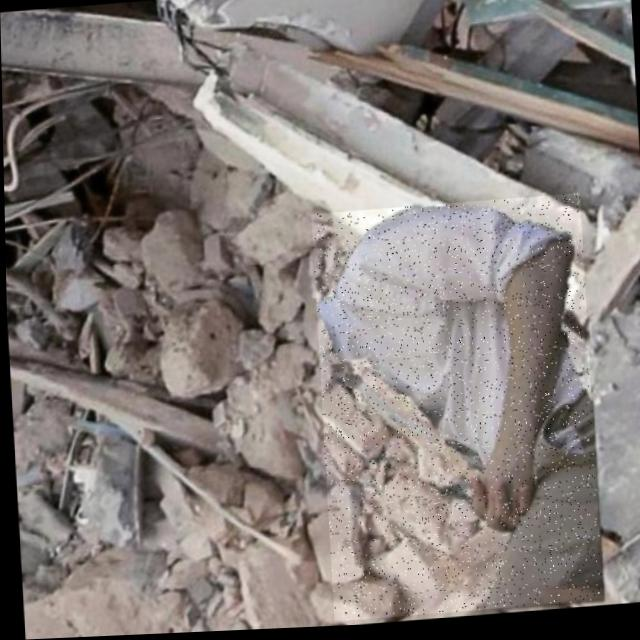Person in Rubble: (310, 196, 600, 623)
